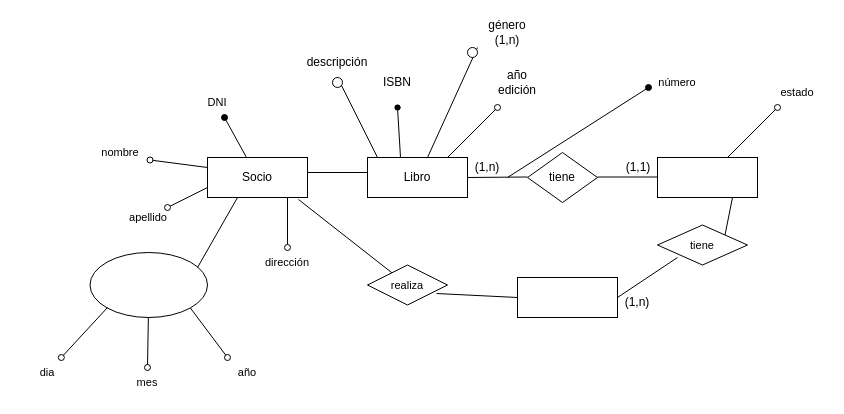
The diagram is 844 pixels wide and 414 high, and some of its shapes have lost their labels. The shapes that lost their labels are listed below. From the top down, each one's centre as x and y in pixels, then its label:
At point (707, 177): "Copia".
At point (148, 285): "fecha de nacimiento".
At point (567, 297): "Prestamo".
